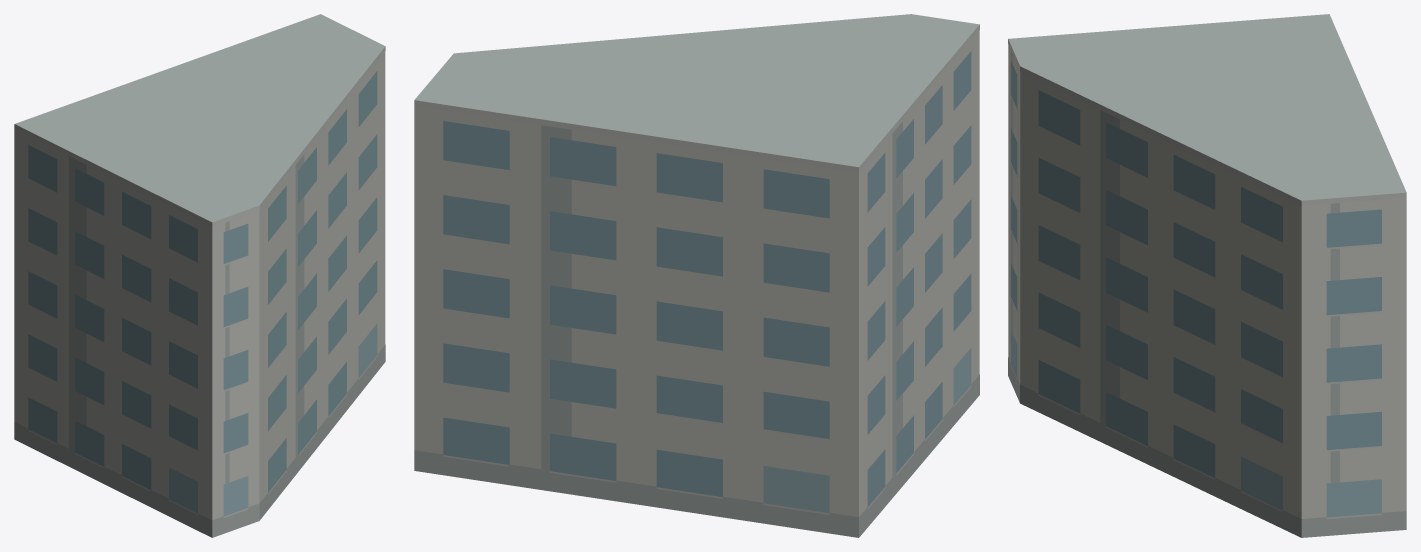
Rendered from residential-171ee5eb-4db3-4547-9691-f9f530ec8b39.glb.
The picture shows the model from 3 angles, left to right: view 1: azimuth 30°, elevation 25°; view 2: azimuth 150°, elevation 25°; view 3: azimuth 270°, elevation 25°; orthographic projection. The views are drawn at different scales.
Visible parts, largest first — view 1: residential-171ee5eb-4db3-4547-9691-f9f530ec8b39.tmp; view 2: residential-171ee5eb-4db3-4547-9691-f9f530ec8b39.tmp; view 3: residential-171ee5eb-4db3-4547-9691-f9f530ec8b39.tmp.
Boxes of the visible parts, <box> form: residential-171ee5eb-4db3-4547-9691-f9f530ec8b39.tmp: <box>14,14,385,537</box>; residential-171ee5eb-4db3-4547-9691-f9f530ec8b39.tmp: <box>414,14,979,537</box>; residential-171ee5eb-4db3-4547-9691-f9f530ec8b39.tmp: <box>1008,14,1406,537</box>.
Size of the model in its own units: 18.11 by 15.25 by 16.34.
